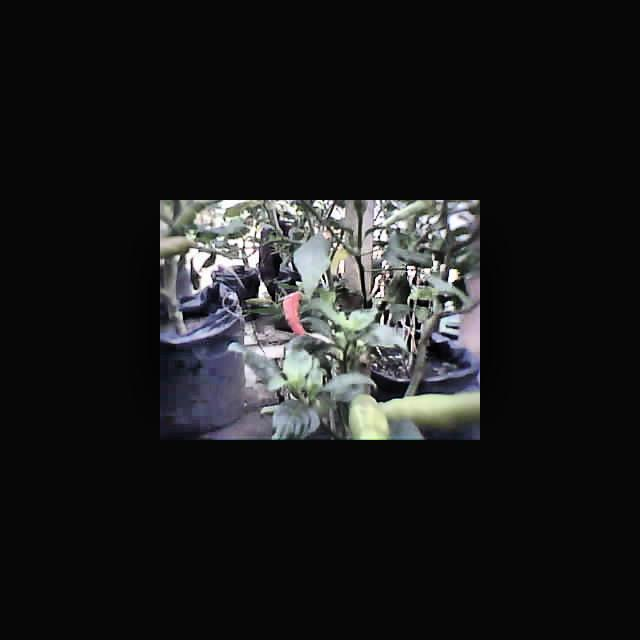Cabai: (272, 289, 313, 337)
